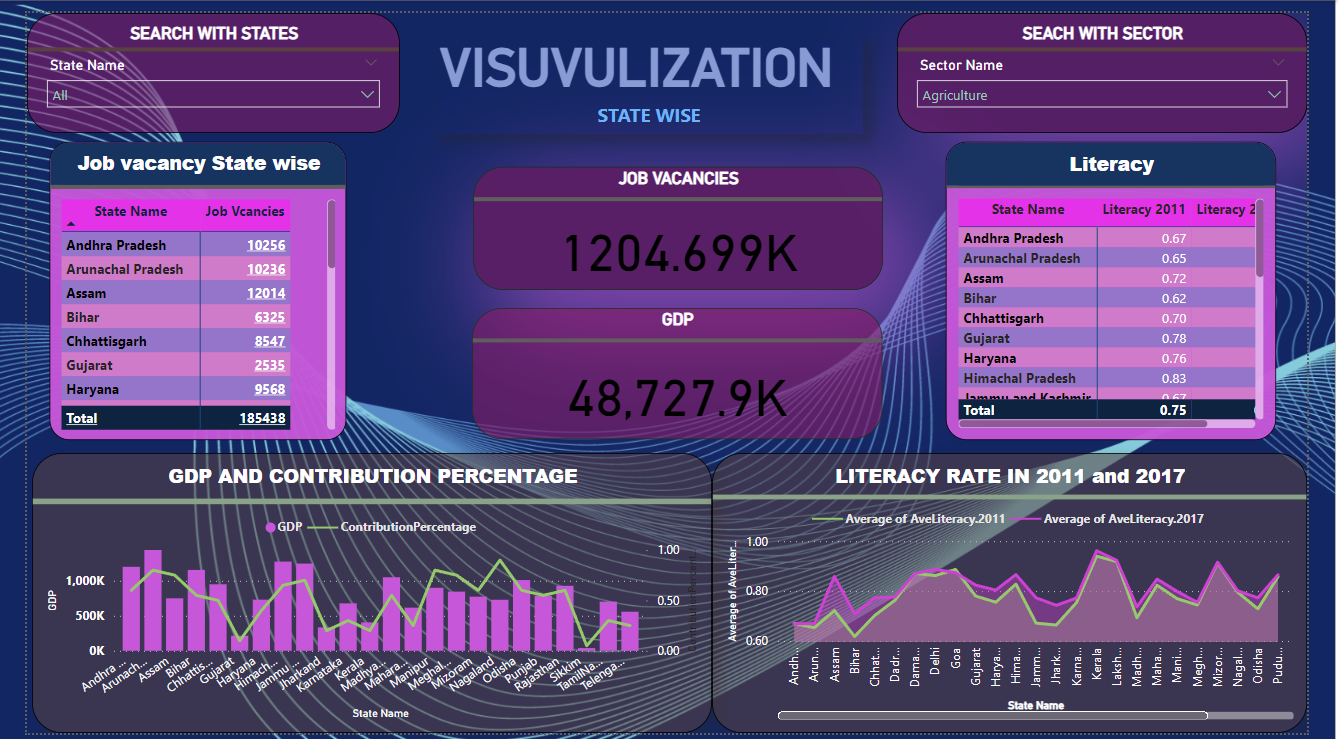

What the dashboard file says about the page in this screenshot:
{"tool":"powerbi","page":{"name":"Page 1","canvas":[1280,720],"ordinal":0},"visuals":[{"type":"lineStackedColumnComboChart","title":"GDP AND CONTRIBUTION PERCENTAGE","fields":{"Y2":["Median(Contribution.ContributionPercentage)"],"Y":["Sum(Contribution.GDP)"],"Category":["states.State Name"]},"box":[5,440,680,280],"z":0},{"type":"slicer","title":"SEACH WITH SECTOR","fields":{"Values":["sectors.Sector Name"]},"box":[870,0,410,120],"z":1000},{"type":"pivotTable","title":"Job vacancy State wise","fields":{"Rows":["states.State Name"],"Values":["Sum(Contribution (2).Job Vcancies)"]},"box":[22,128.4,297,298.3],"z":2000},{"type":"areaChart","title":"LITERACY RATE IN 2011 and 2017","fields":{"Category":["states.State Name"],"Y":["Avg(Contribution.AveLiteracy.2011)","Avg(Contribution.AveLiteracy.2017)"]},"box":[685,440,595,280],"z":3000},{"type":"card","title":"JOB VACANCIES","fields":{"Values":["Sum(Contribution.Job Vcancies)"]},"box":[446.2,154,409.5,123.5],"z":4000},{"type":"slicer","title":"SEARCH WITH STATES","fields":{"Values":["states.State Name"]},"box":[0,0,372.8,119.8],"z":5000},{"type":"card","title":"GDP","fields":{"Values":["Sum(Contribution.GDP)"]},"box":[445,295,410,131.2],"z":6000},{"type":"pivotTable","title":"Literacy","fields":{"Rows":["states.State Name"],"Values":["Avg(Contribution.AveLiteracy.2011)","Avg(Contribution.AveLiteracy.2017)"]},"box":[919.3,128.4,330.1,298.3],"z":7000},{"type":"textbox","title":"VISUVULIZATION","box":[407.1,23.2,429.1,96.6],"z":8000}]}

Visuals, with their boxes in screenshot pixels (x1, y1, x2, y2), scaled from the page's 1280x720 canvas onto the 1338x739 screenshot:
"GDP AND CONTRIBUTION PERCENTAGE" lineStackedColumnComboChart: detection(5, 452, 716, 738)
"SEACH WITH SECTOR" slicer: detection(909, 0, 1337, 123)
"Job vacancy State wise" pivotTable: detection(23, 132, 333, 438)
"LITERACY RATE IN 2011 and 2017" areaChart: detection(716, 452, 1337, 738)
"JOB VACANCIES" card: detection(466, 158, 894, 285)
"SEARCH WITH STATES" slicer: detection(0, 0, 390, 123)
"GDP" card: detection(465, 303, 894, 437)
"Literacy" pivotTable: detection(961, 132, 1306, 438)
"VISUVULIZATION" textbox: detection(426, 24, 874, 123)
